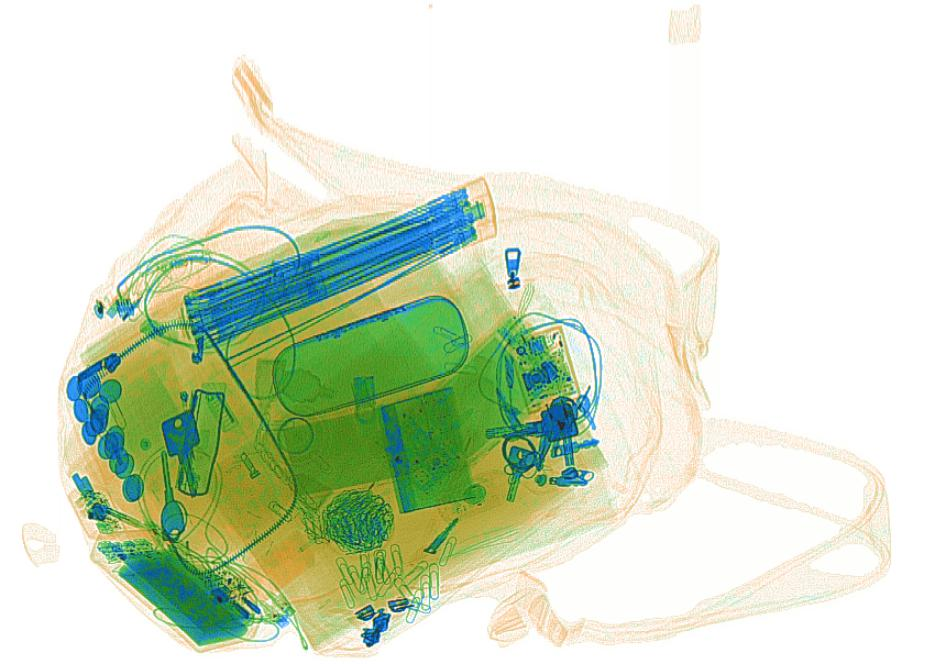USBFlashDisk: (348, 374, 379, 436)
plasticBottleWithaNozzle: (228, 513, 346, 610)
